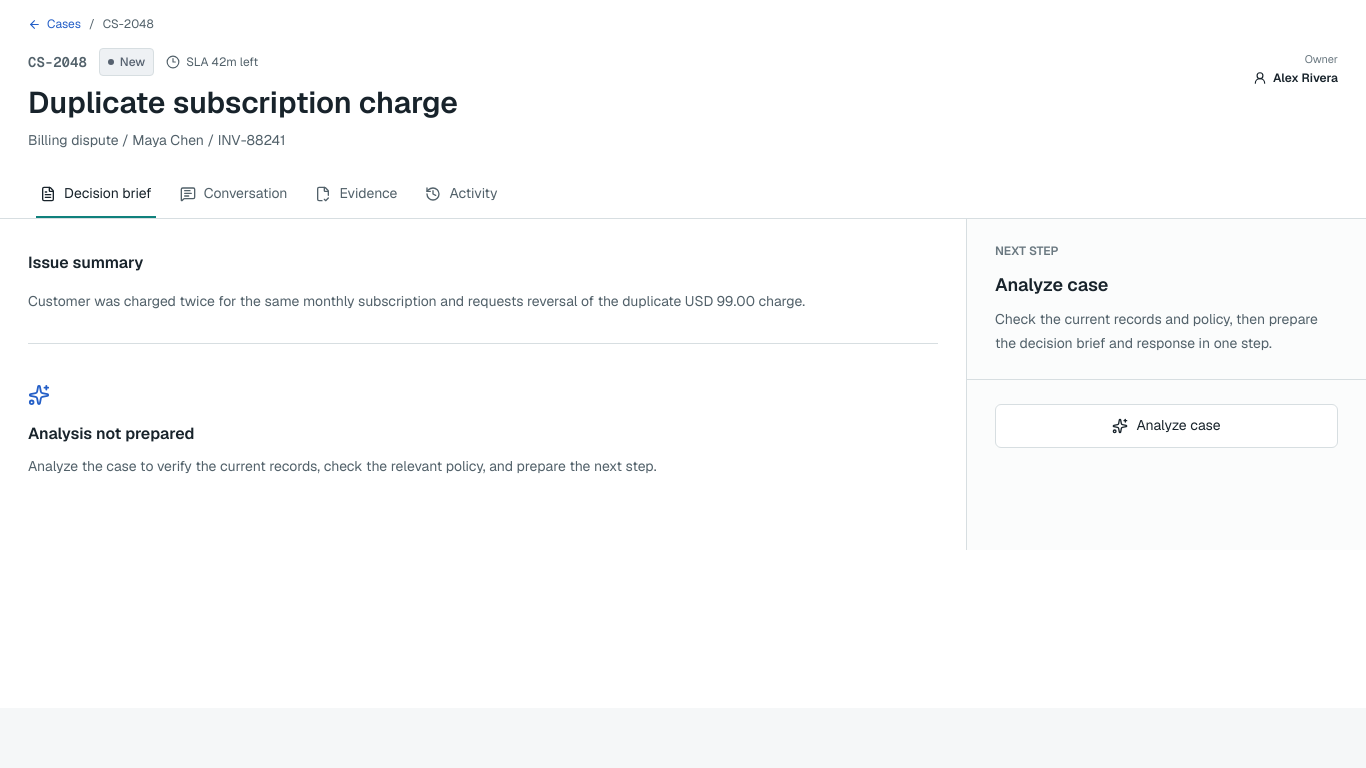
CaseWorkspace › lets an operator start work on a new case
Check: the heading "Analyze case" is shown, box [995, 272, 1108, 296]
Click the button "Analyze case" at (1166, 426), box [995, 404, 1338, 448]
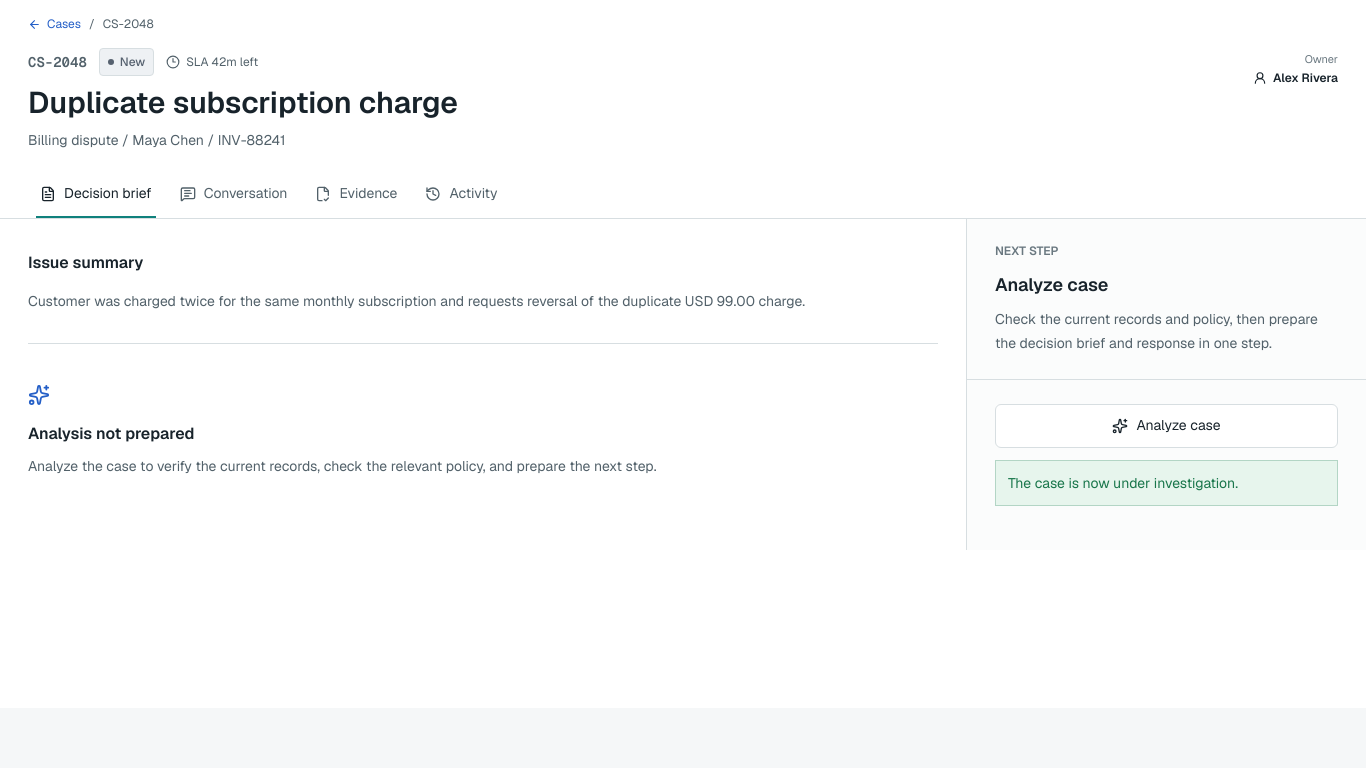
Check: the message shows "now under investigation", box [1008, 474, 1238, 492]
